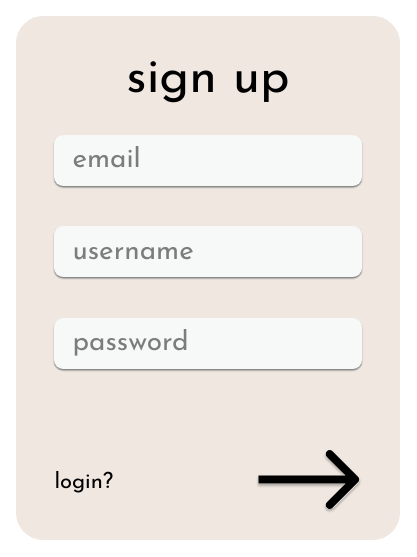
Scenario: Register › shows server error on failed registration
Type "taken@example.com" into the field with placeholder "email" at [208, 160], box [54, 135, 362, 186]
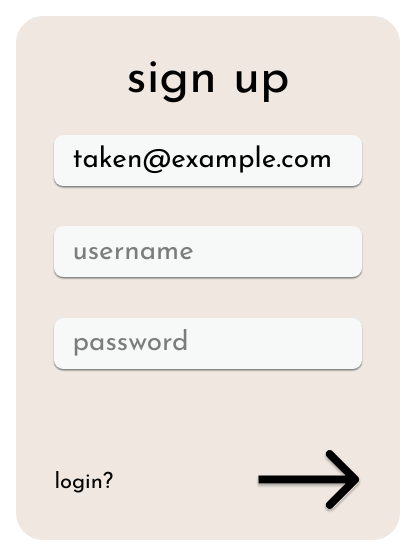
Type "alice" into the field with placeholder "username" at [208, 252], box [54, 226, 362, 277]
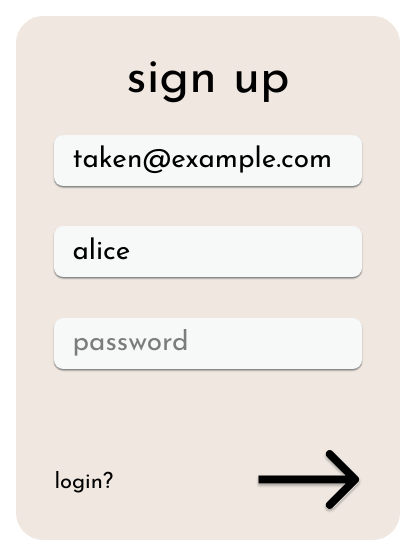
Type "password123" into the password field with placeholder "password" at [208, 343], box [54, 318, 362, 369]
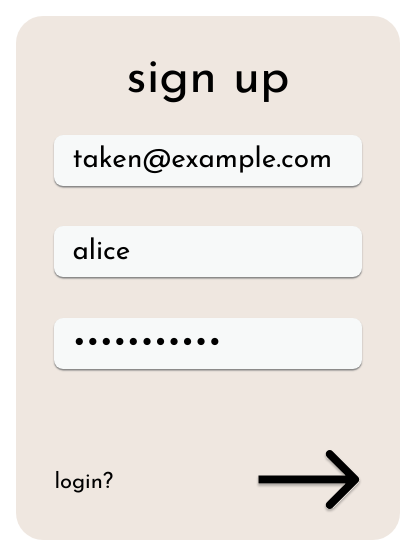
Click the button named "submit" at [309, 482], box [256, 450, 362, 514]
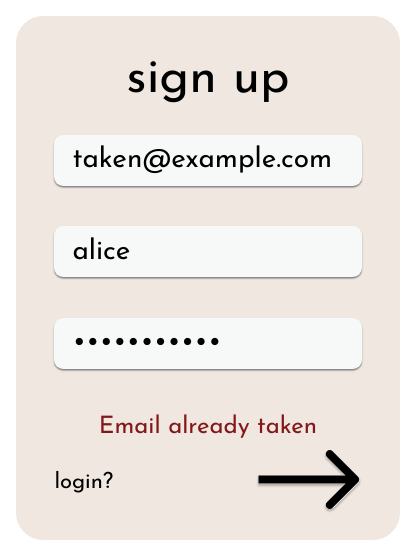
Expected: the text "Email already taken" is shown, [99, 409, 317, 441]
